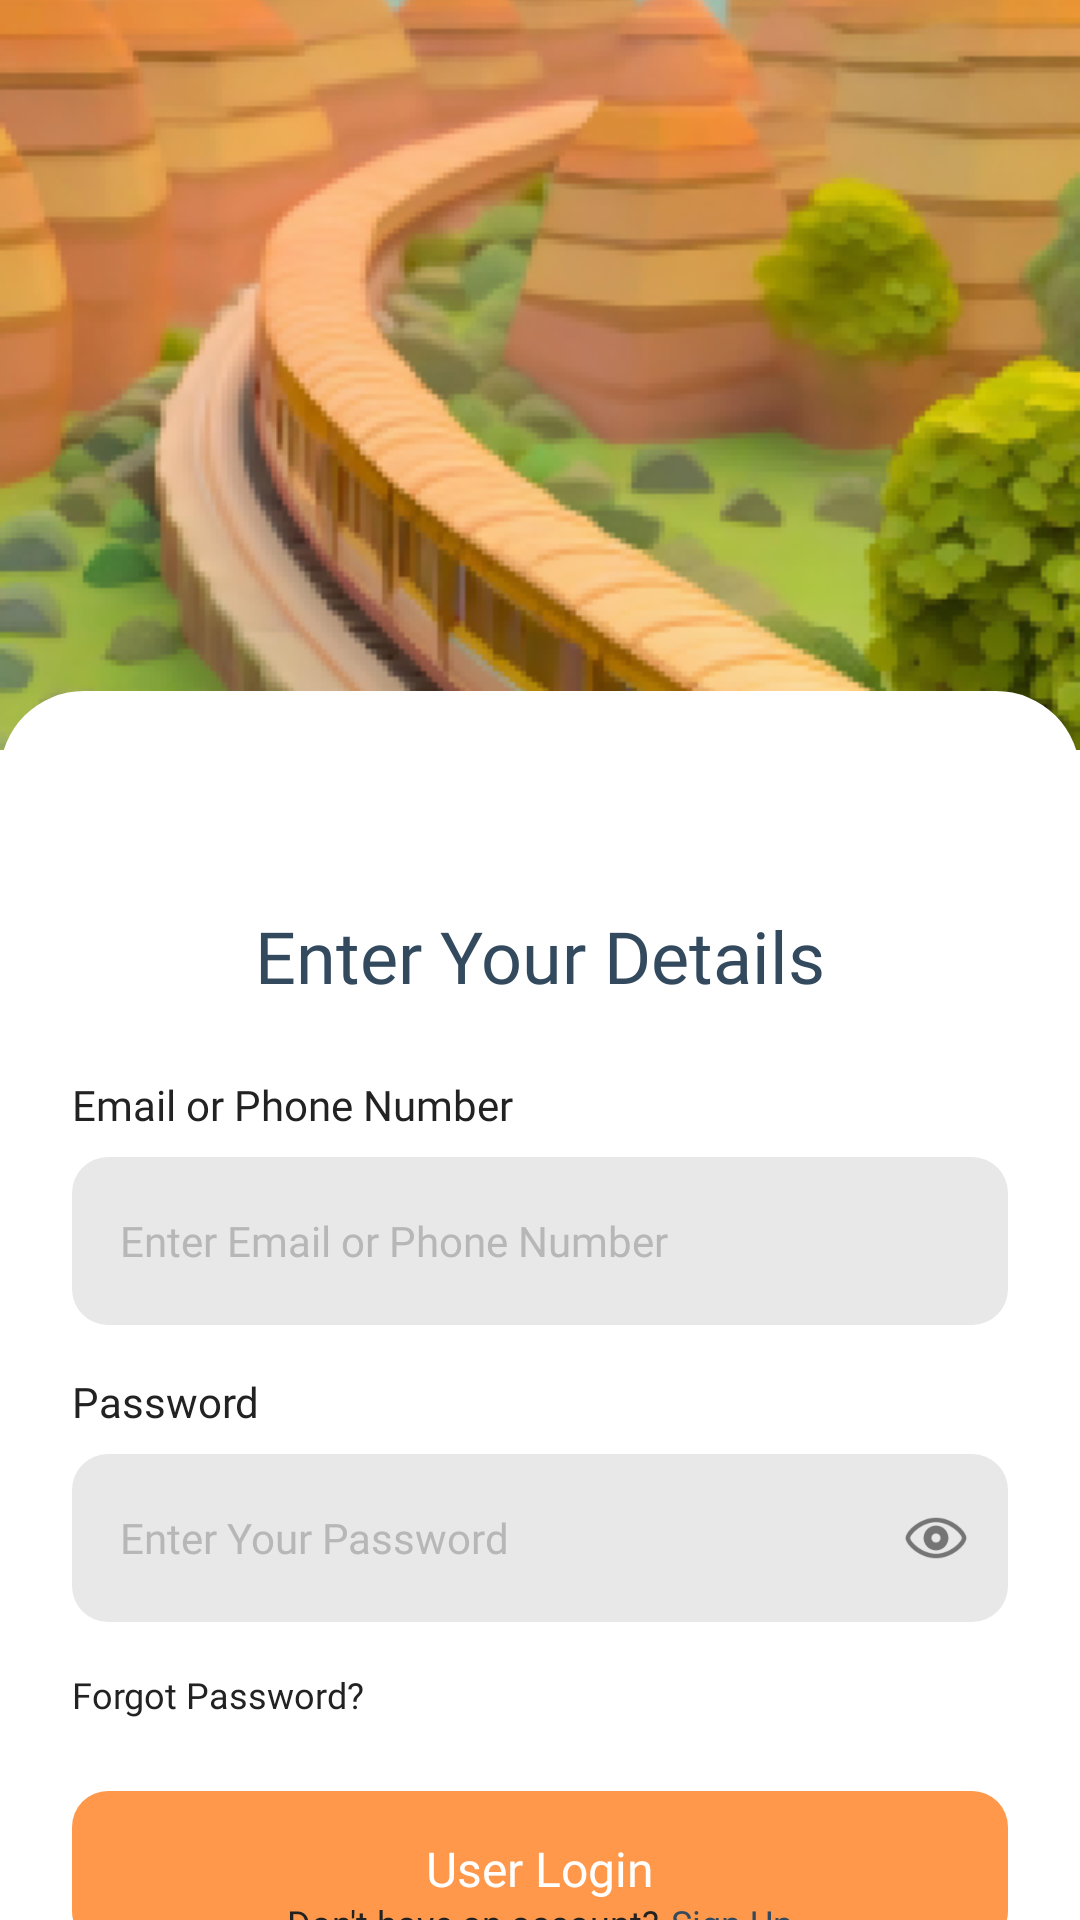

Screen size 1080 x 1920. Icon name, then its center in pixels as point (x, y):
eye: point (936, 1538)
